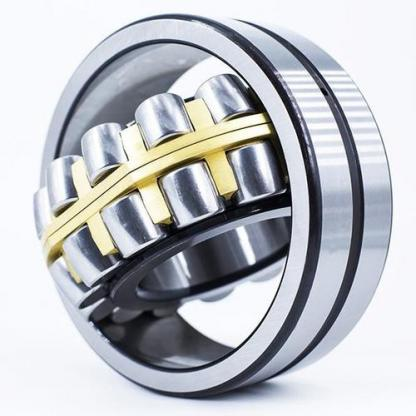FOD: (29, 4, 393, 403)
